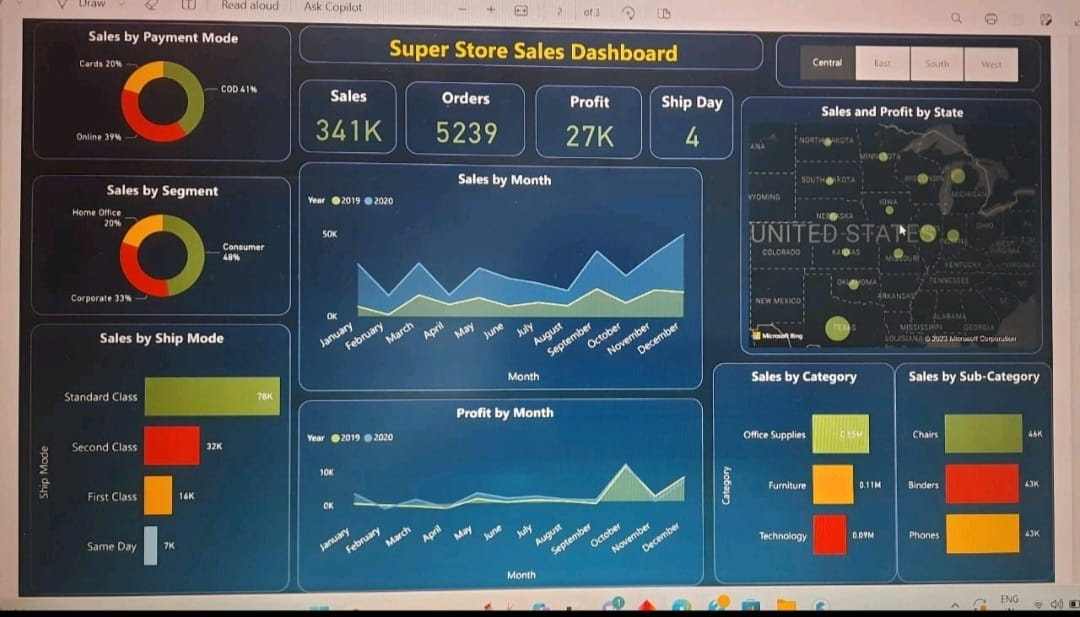

What the dashboard file says about the page in this screenshot:
{"tool":"powerbi","page":{"name":"Page 2","canvas":[1280,720],"ordinal":1},"visuals":[{"type":"barChart","title":"Sales by Category","fields":{"Category":["SuperStore_Sales_Dataset (2).Category"],"Y":["Sum(SuperStore_Sales_Dataset (2).Sales)"]},"box":[845,431.7,231.7,278.3],"z":0},{"type":"barChart","title":"Sales by Sub-Category","fields":{"Y":["Sum(SuperStore_Sales_Dataset (2).Sales)"],"Category":["SuperStore_Sales_Dataset (2).Sub-Category"]},"box":[1076.7,431.7,203.3,278.3],"z":1000},{"type":"barChart","title":"Sales by Ship Mode","fields":{"Y":["Sum(SuperStore_Sales_Dataset (2).Sales)"],"Category":["SuperStore_Sales_Dataset (2).Ship Mode"]},"box":[13.3,383.3,308.3,326.7],"z":2000},{"type":"map","title":"Sales and Profit by State","fields":{"Category":["SuperStore_Sales_Dataset (2).State"],"Size":["Sum(SuperStore_Sales_Dataset (2).Sales)"]},"box":[880,93.3,388.3,326.7],"z":3000},{"type":"donutChart","title":"Sales by Segment","fields":{"Category":["SuperStore_Sales_Dataset (2).Segment"],"Y":["Sum(SuperStore_Sales_Dataset (2).Sales)"]},"box":[13.3,201.7,308.3,170],"z":4000},{"type":"donutChart","title":"Sales by Payment Mode","fields":{"Category":["SuperStore_Sales_Dataset (2).Payment Mode"],"Y":["Sum(SuperStore_Sales_Dataset (2).Sales)"]},"box":[13.3,15,308.3,168.3],"z":5000},{"type":"slicer","fields":{"Values":["SuperStore_Sales_Dataset (2).Region"]},"box":[925,15,343.3,66.7],"z":6000},{"type":"textbox","title":"Super Store Sales Dashboard","box":[331.7,15,576.7,45],"z":7000},{"type":"card","title":"Sales","fields":{"Values":["Sum(SuperStore_Sales_Dataset (2).Sales)"]},"box":[331.7,81.7,118.3,90],"z":8000},{"type":"card","title":"Orders","fields":{"Values":["Sum(SuperStore_Sales_Dataset (2).Quantity)"]},"box":[460,81.7,146.7,90],"z":9000},{"type":"card","title":"Profit","fields":{"Values":["Sum(SuperStore_Sales_Dataset (2).Profit)"]},"box":[620.5,82.8,134.4,89.6],"z":10000},{"type":"card","title":"Ship Day","fields":{"Values":["Avg(SuperStore_Sales_Dataset (2).Average Delivery)"]},"box":[764.4,81.5,105.9,91],"z":11000},{"type":"stackedAreaChart","title":"Sales by Month","fields":{"Y":["Sum(SuperStore_Sales_Dataset (2).Sales)"],"Series":["SuperStore_Sales_Dataset (2).Order Date.Variation.Date Hierarchy.Year"],"Category":["SuperStore_Sales_Dataset (2).Order Date.Variation.Date Hierarchy.Month"]},"box":[331.7,183.3,500,281.7],"z":12000},{"type":"stackedAreaChart","title":"Profit by Month","fields":{"Series":["SuperStore_Sales_Dataset (2).Order Date.Variation.Date Hierarchy.Year"],"Category":["SuperStore_Sales_Dataset (2).Order Date.Variation.Date Hierarchy.Month"],"Y":["Sum(SuperStore_Sales_Dataset (2).Profit)"]},"box":[331.7,476.7,500,235],"z":13000}]}

Visuals, with their boxes on the page's 1280x720 design canvas (x1, y1, x2, y2). These are canvas units, not pixel positions in the 1080x617 screenshot, which may show the page scaled, cropped or inside an application window:
"Sales by Category" barChart: <region>845, 432, 1077, 710</region>
"Sales by Sub-Category" barChart: <region>1077, 432, 1280, 710</region>
"Sales by Ship Mode" barChart: <region>13, 383, 322, 710</region>
"Sales and Profit by State" map: <region>880, 93, 1268, 420</region>
"Sales by Segment" donutChart: <region>13, 202, 322, 372</region>
"Sales by Payment Mode" donutChart: <region>13, 15, 322, 183</region>
slicer - SuperStore_Sales_Dataset (2).Region: <region>925, 15, 1268, 82</region>
"Super Store Sales Dashboard" textbox: <region>332, 15, 908, 60</region>
"Sales" card: <region>332, 82, 450, 172</region>
"Orders" card: <region>460, 82, 607, 172</region>
"Profit" card: <region>620, 83, 755, 172</region>
"Ship Day" card: <region>764, 82, 870, 172</region>
"Sales by Month" stackedAreaChart: <region>332, 183, 832, 465</region>
"Profit by Month" stackedAreaChart: <region>332, 477, 832, 712</region>
